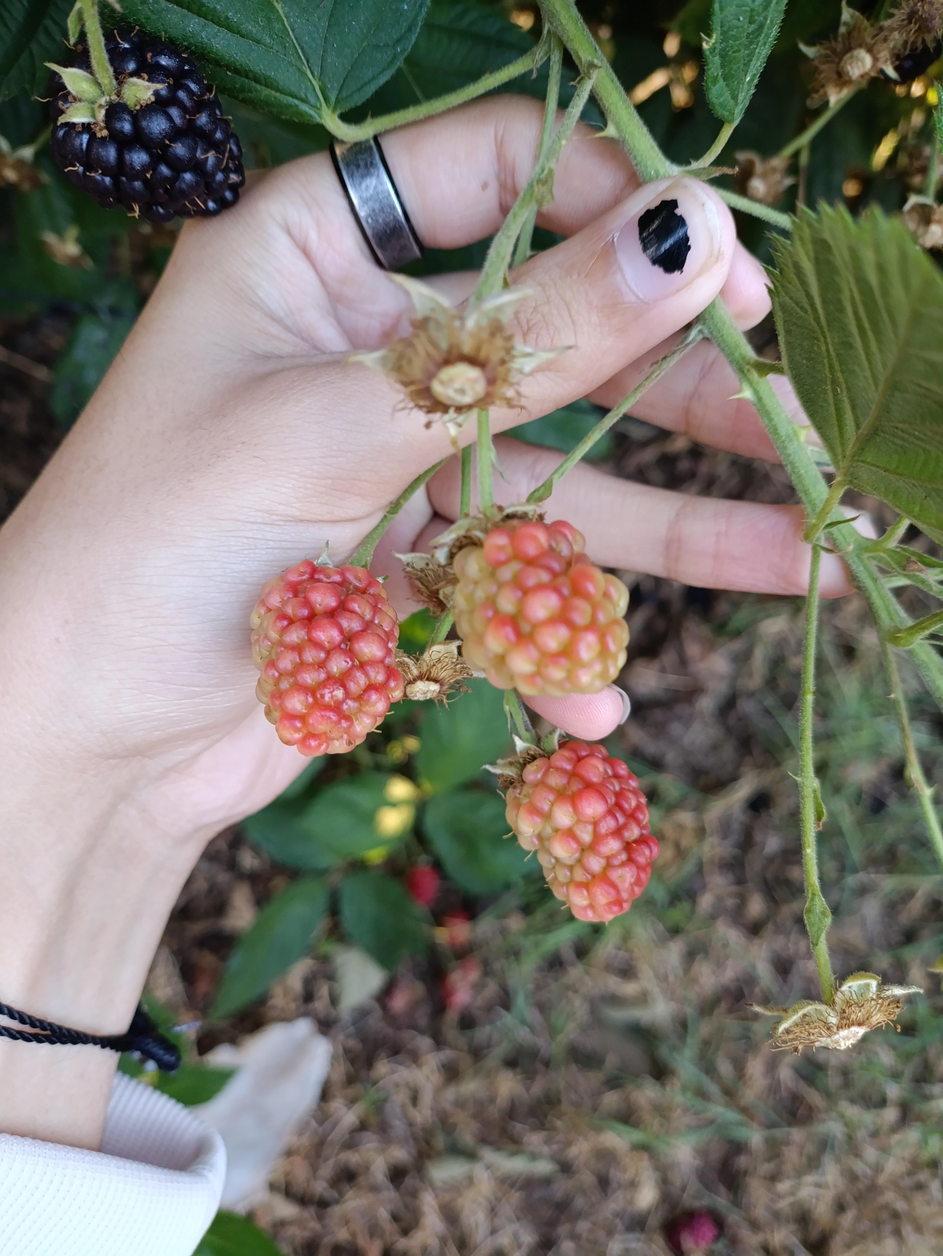maduro: (51, 29, 244, 223)
naranja: (252, 560, 404, 756), (506, 740, 659, 922)
verde: (452, 518, 628, 696)
